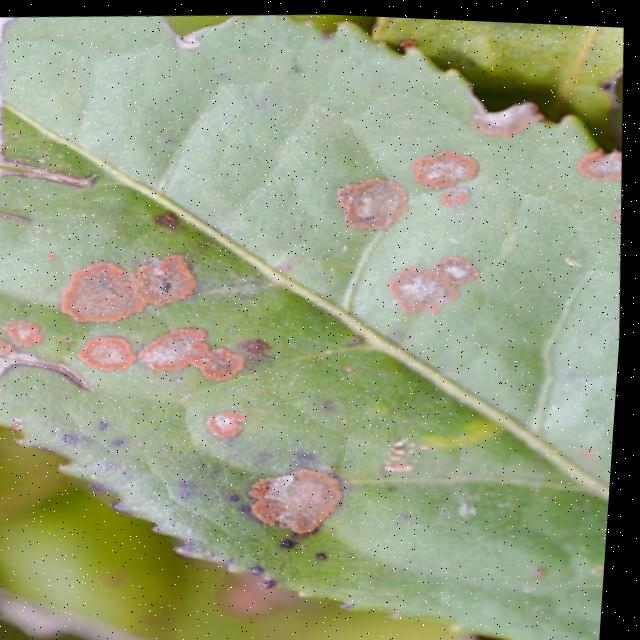Tea red rust: (0, 61, 637, 549)
